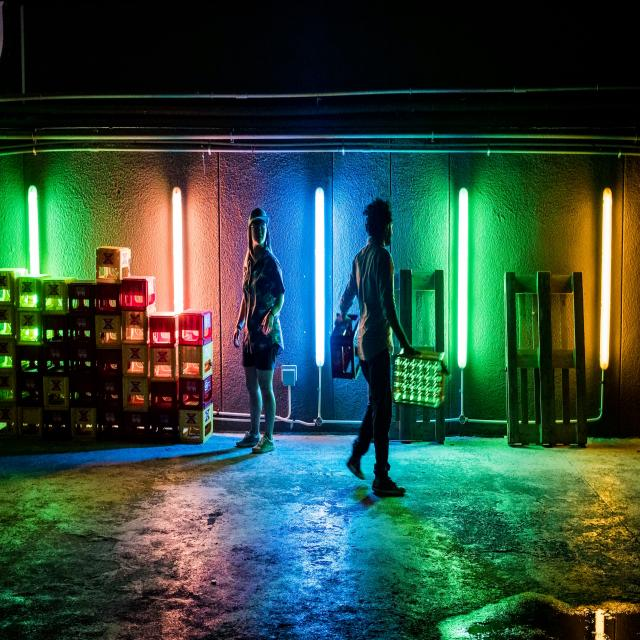adult: (333, 194, 425, 497), (230, 204, 289, 466)
